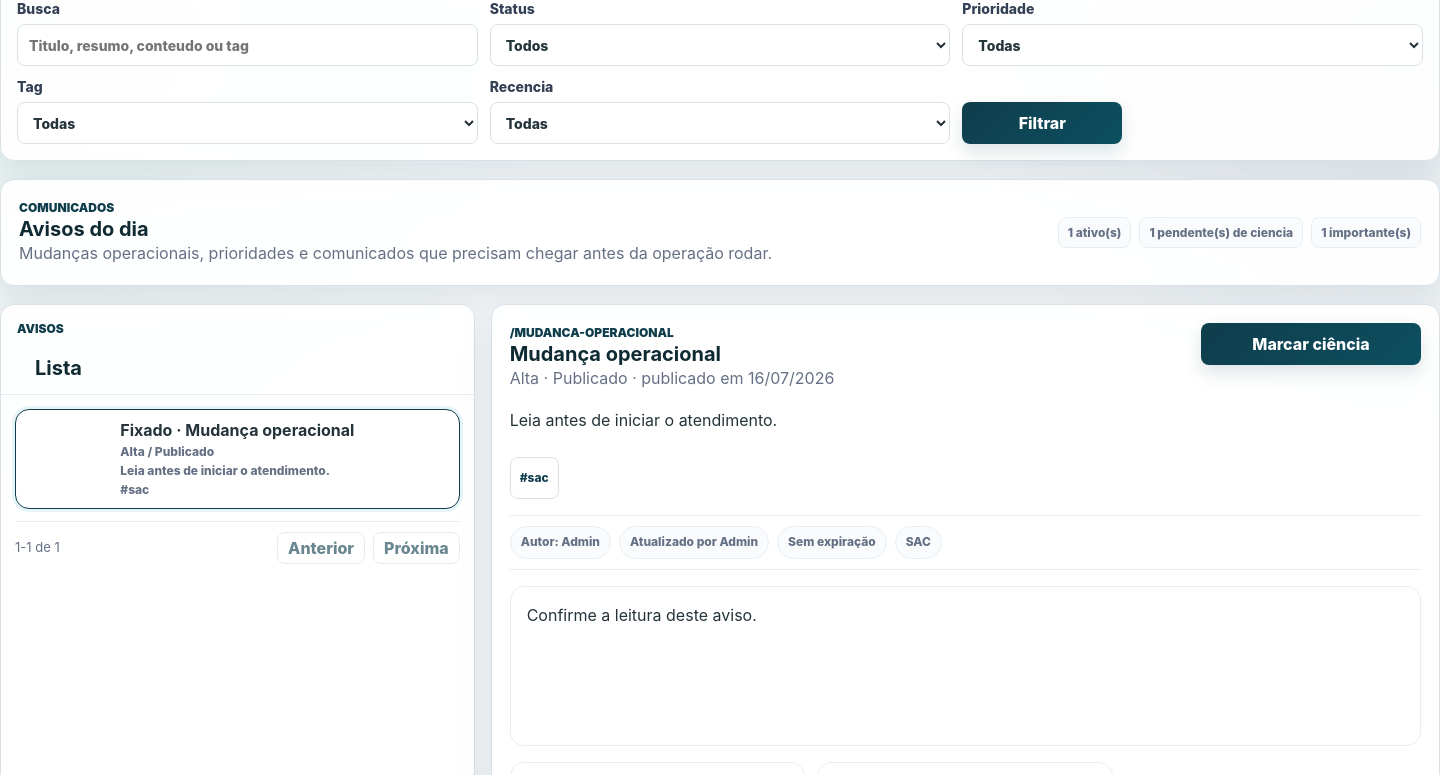
Test: AnnouncementsView acknowledgement › keeps acknowledgement pending when only another user has confirmed, then reloads the current status
What coordinates should you click on to do the following:
click the button "Marcar ciência"
I would click on:
 (1311, 344)
Its box is [1201, 323, 1421, 365].
(page scrolled)
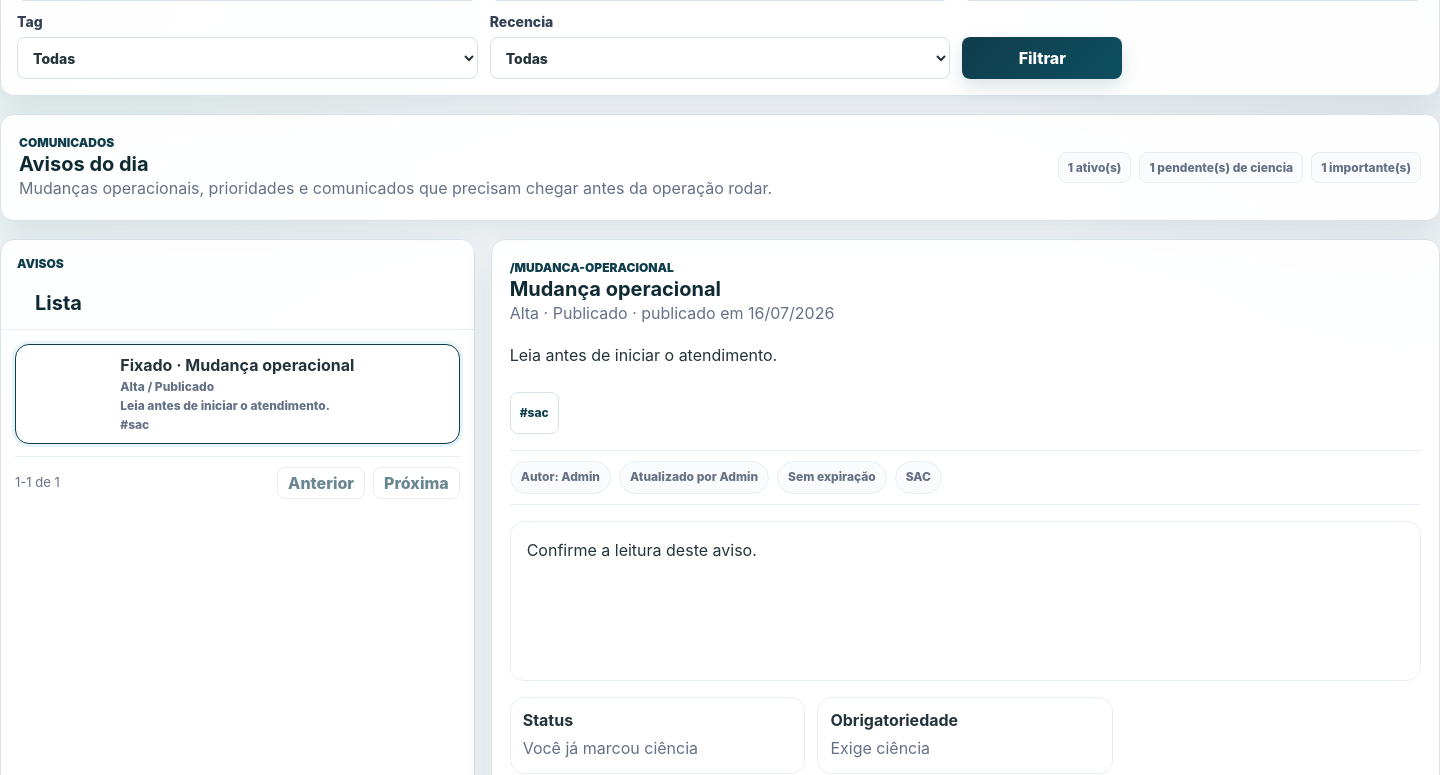
Result: the text "Você já marcou ciência" is shown at [523, 738, 698, 758]
Result: the button "Marcar ciência" is gone
